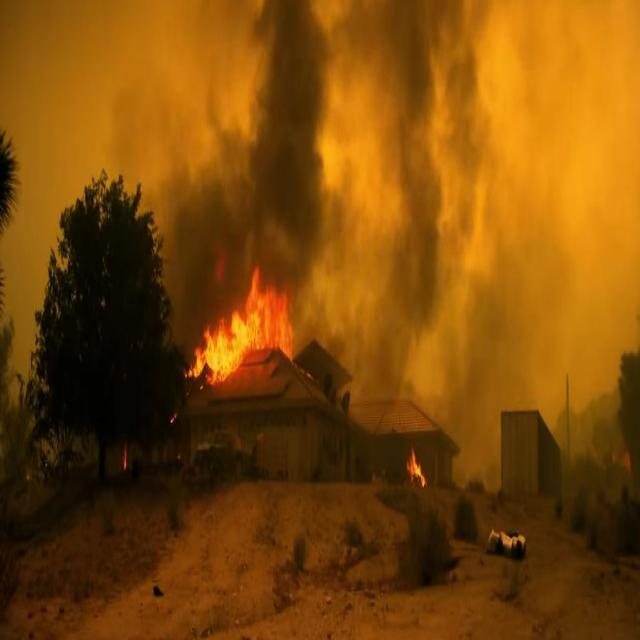Fire: (199, 284, 304, 379), (406, 450, 426, 490)
Smoke: (188, 158, 320, 260), (270, 5, 314, 146)
